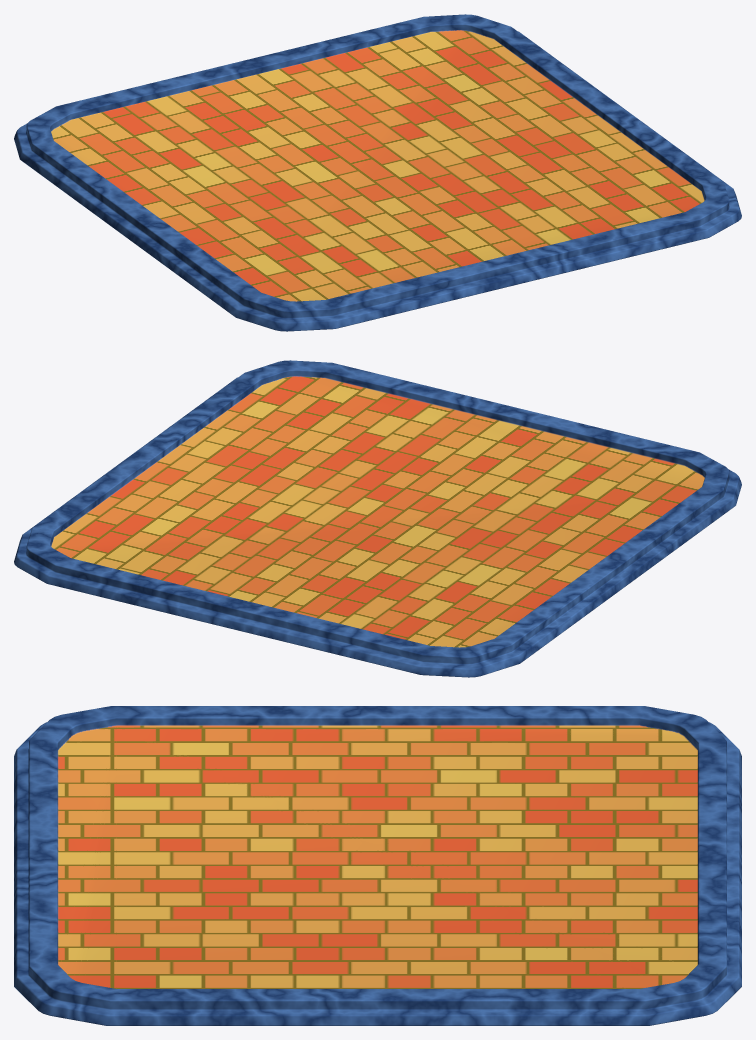
3 renders of one model, top to bottom at view 1: azimuth 30°, elevation 25°; view 2: azimuth 150°, elevation 25°; view 3: azimuth 270°, elevation 25°, orthographic. The views are drawn at different scales.
Parts seen in each view (by area): view 1: Plane; view 2: Plane; view 3: Plane.
Boxes of the visible parts, x1,y1,x2,y2 form: Plane: (14,14,741,331); Plane: (14,360,741,677); Plane: (14,706,741,1025).
Size of the model in its own units: 835 by 24.41 by 835.
Materials: 1 (1 with a texture image).
